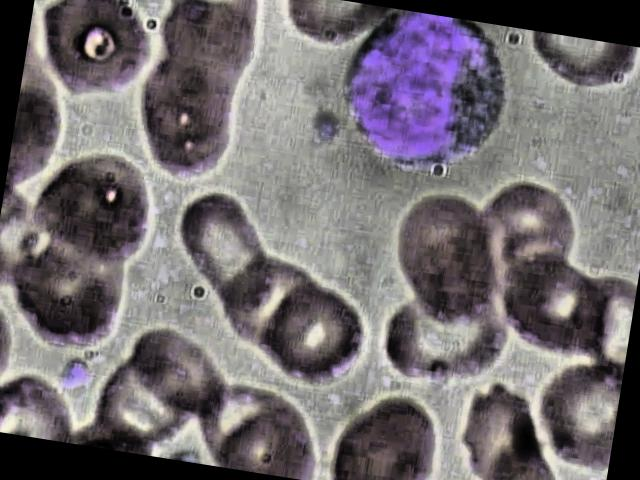Platelets: (52, 350, 94, 398), (311, 109, 345, 144)
RBC: (378, 179, 509, 332), (25, 140, 162, 276), (154, 186, 290, 320), (374, 274, 518, 396), (462, 176, 588, 308), (248, 274, 380, 396), (23, 0, 160, 104), (321, 380, 453, 480), (526, 348, 624, 476), (120, 320, 240, 424), (518, 30, 640, 104), (277, 0, 390, 54)
WBC: (330, 3, 522, 189)
